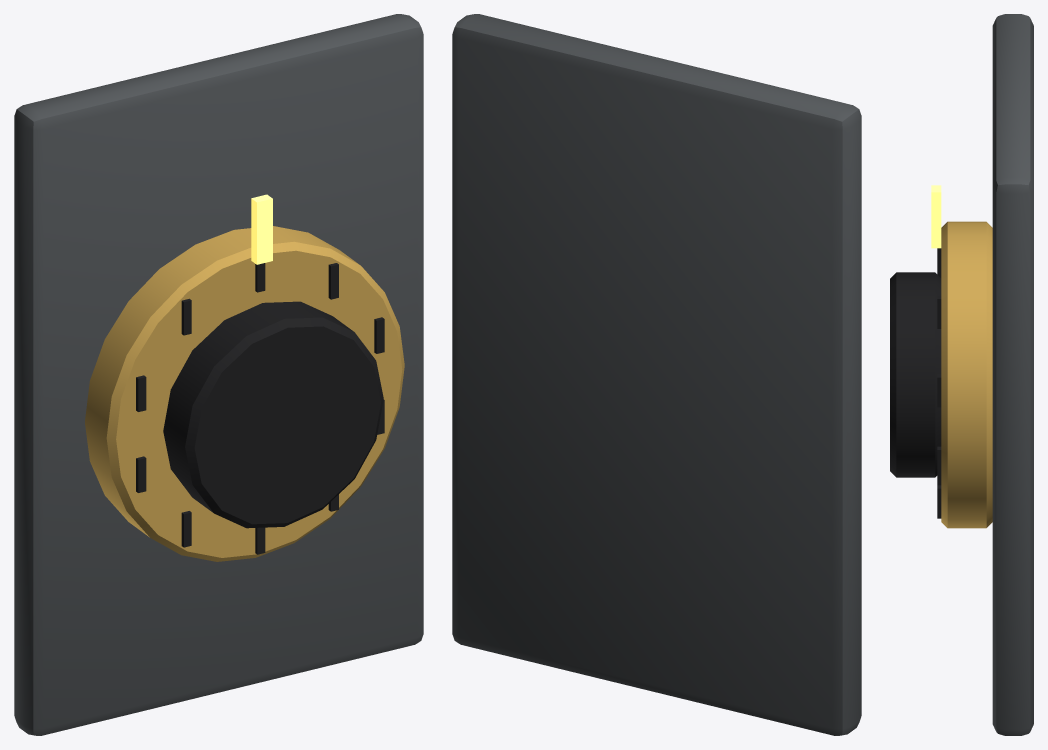
The model's file is mae_dial.glb.
The picture shows the model from 3 angles, left to right: view 1: azimuth 30°, elevation 25°; view 2: azimuth 150°, elevation 25°; view 3: azimuth 270°, elevation 25°; orthographic projection. The views are drawn at different scales.
Visible parts, largest first — view 1: mae_dial; view 2: mae_dial; view 3: mae_dial.
Boxes of the visible parts, box(x1,y1,x2,y2) form: mae_dial: box(14, 14, 423, 735); mae_dial: box(452, 14, 861, 735); mae_dial: box(890, 14, 1033, 735).
Bounding box in the file's own units: 0.2 × 0.3 × 0.07.
